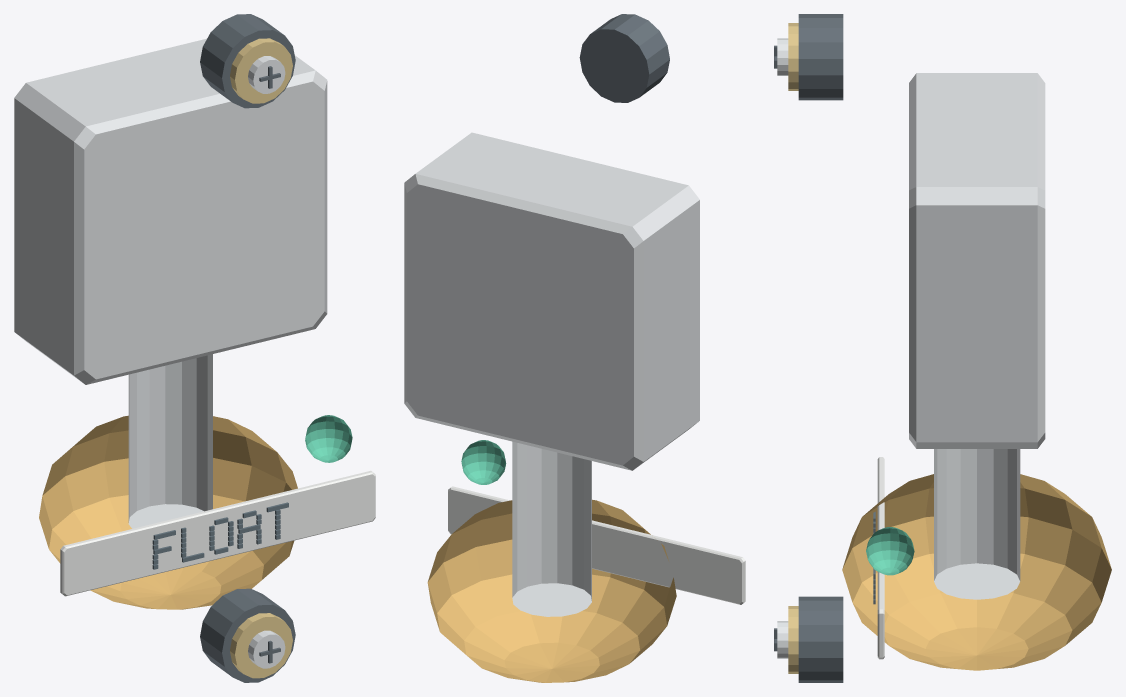
The model's file is floatSwitch.glb.
3 views of the same model, side by side, from view 1: azimuth 30°, elevation 25°; view 2: azimuth 150°, elevation 25°; view 3: azimuth 270°, elevation 25° (orthographic). The views are drawn at different scales.
Parts seen in each view (by area): view 1: floatSwitch-preview; view 2: floatSwitch-preview; view 3: floatSwitch-preview.
Boxes of the visible parts, x1,y1,x2,y2 form: floatSwitch-preview: (14,14,375,682); floatSwitch-preview: (404,14,745,682); floatSwitch-preview: (774,14,1111,682).
Size of the model in its own units: 1.33 by 2.65 by 1.23.
